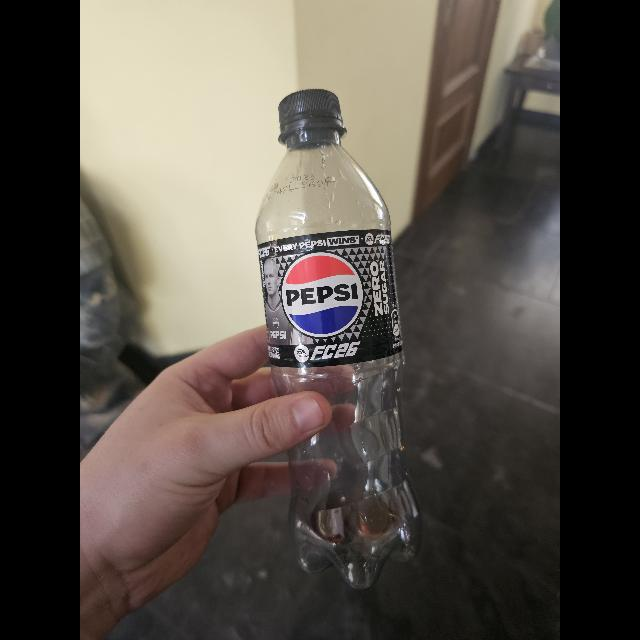Plastic: (256, 85, 432, 595)
